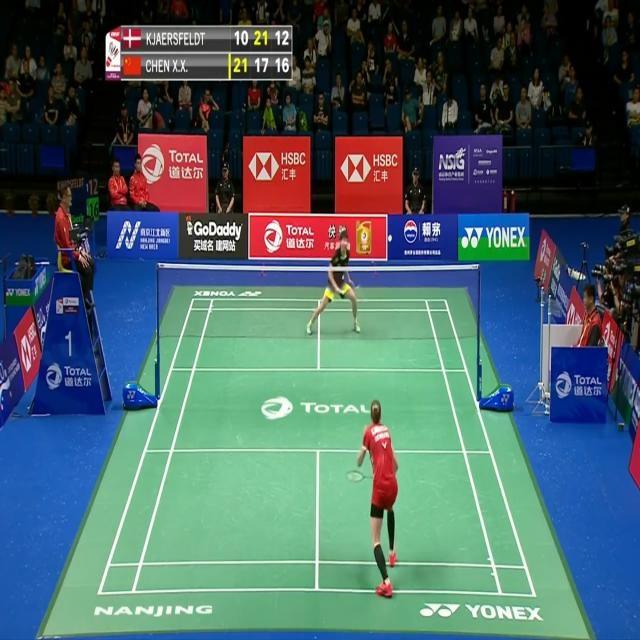Player1: (349, 397, 403, 599)
Player2: (304, 225, 372, 337)
